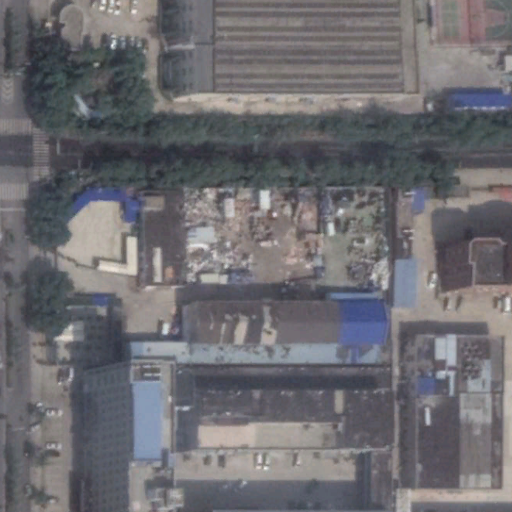msw: (180, 183, 274, 282)
